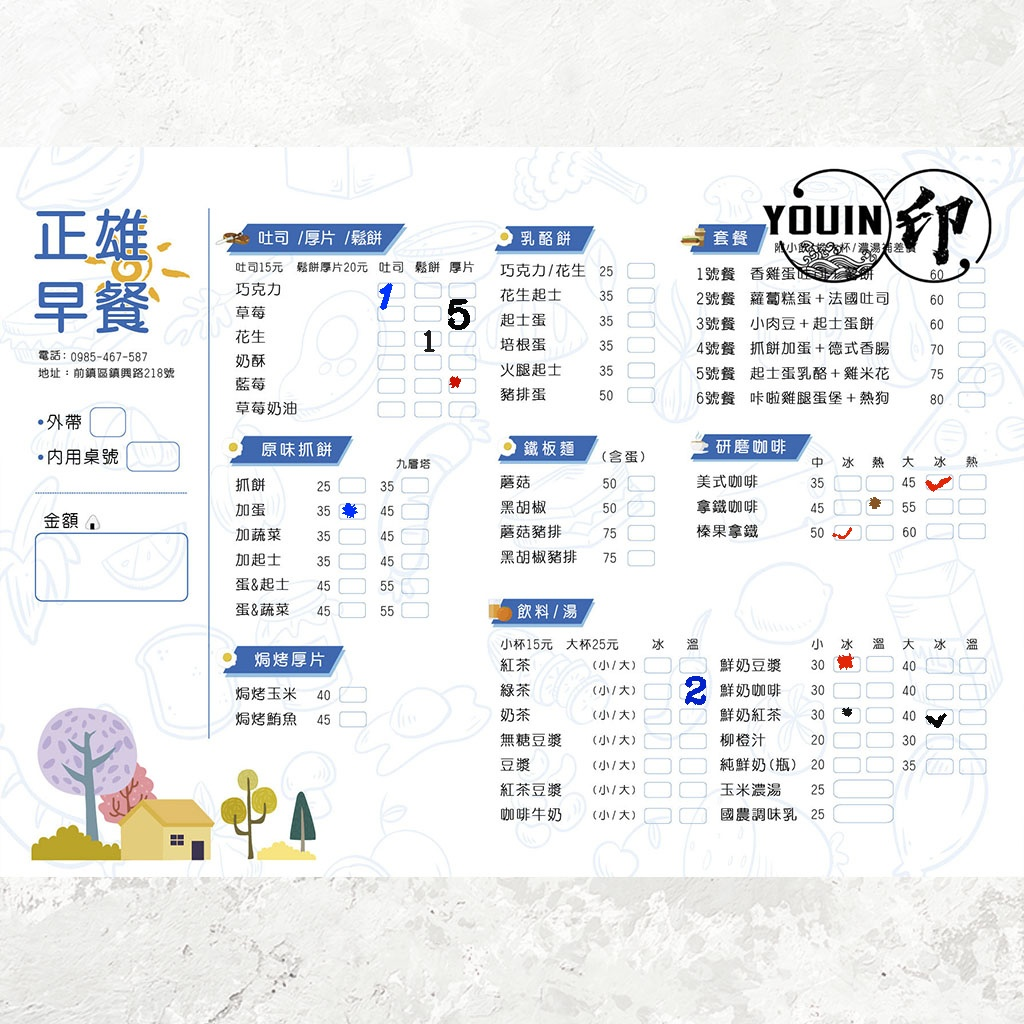marked_circle: (866, 499, 892, 513), (448, 378, 474, 392), (338, 503, 364, 517), (834, 657, 860, 671), (834, 707, 860, 721)
marked_number_1: (414, 330, 440, 344), (377, 282, 403, 296)
marked_number_2: (678, 686, 704, 700)
marked_number_5: (448, 305, 474, 319)
marked_tick: (834, 524, 860, 538), (926, 711, 952, 725), (925, 474, 951, 488)
